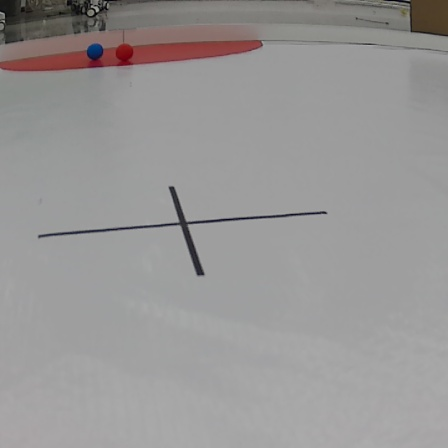blue: (86, 45, 105, 59)
red: (118, 46, 134, 57)
red_base: (0, 40, 268, 71)
